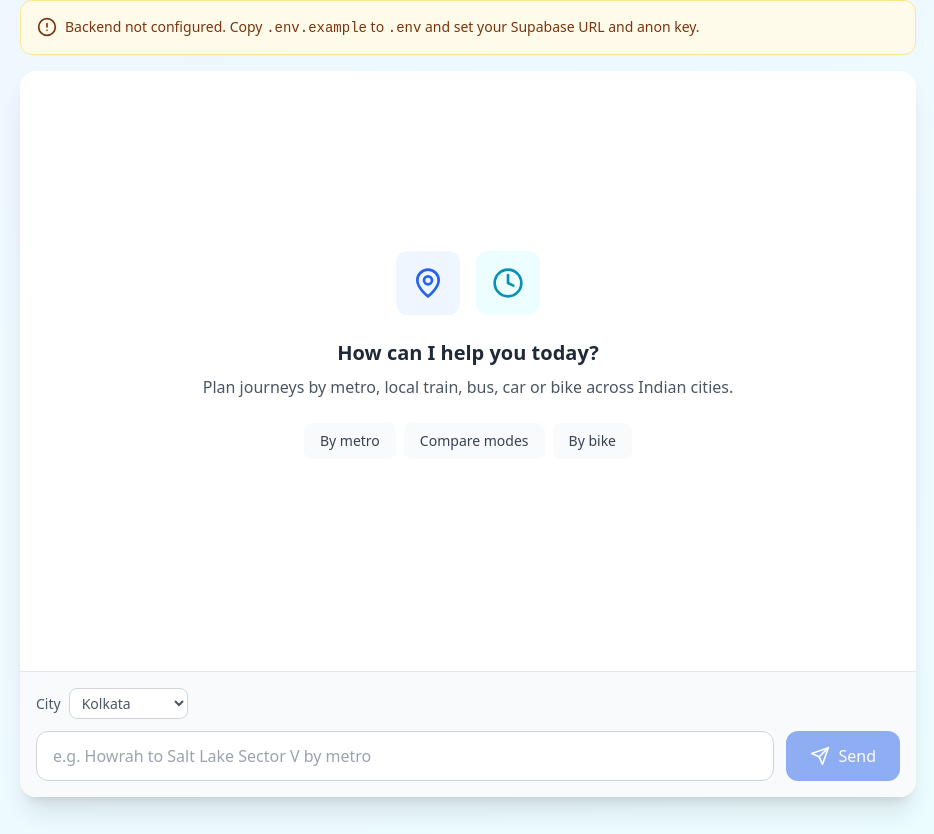
Test case: TransportAssistant › shows an error bubble when the backend is not configured, and can clear the chat
(page scrolled)
Step 1. Type "hello" into the field named "ask about getting around" → (405, 756), box [36, 731, 774, 781]
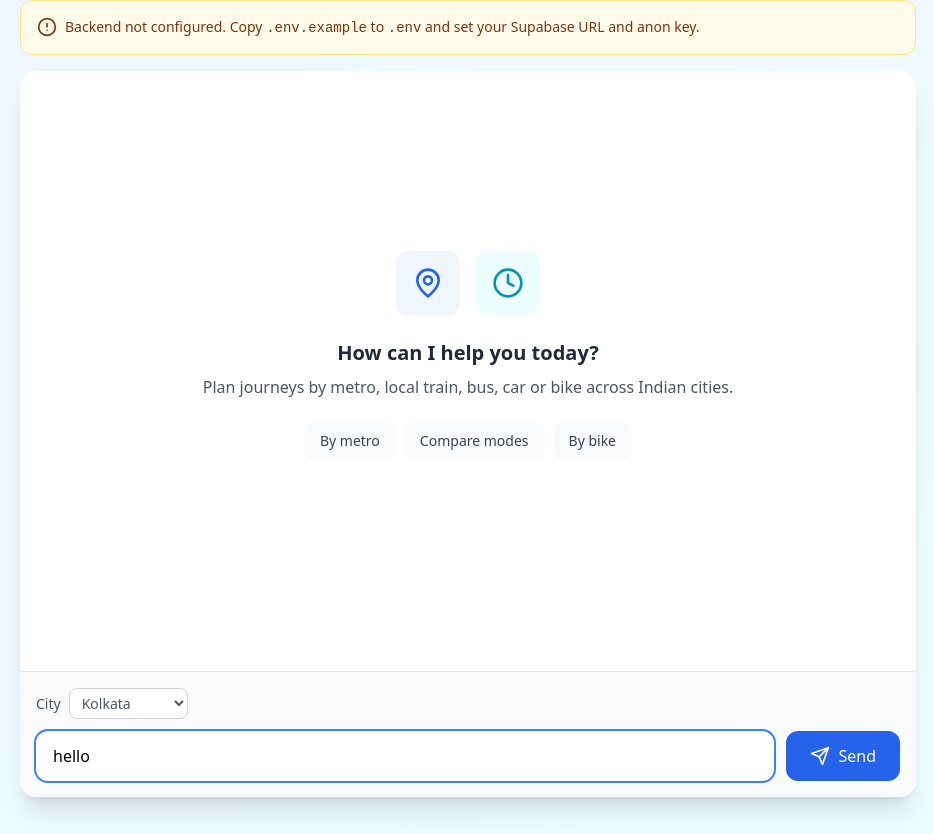
Step 2. Click the button "Send" → (843, 756), box [786, 731, 900, 781]
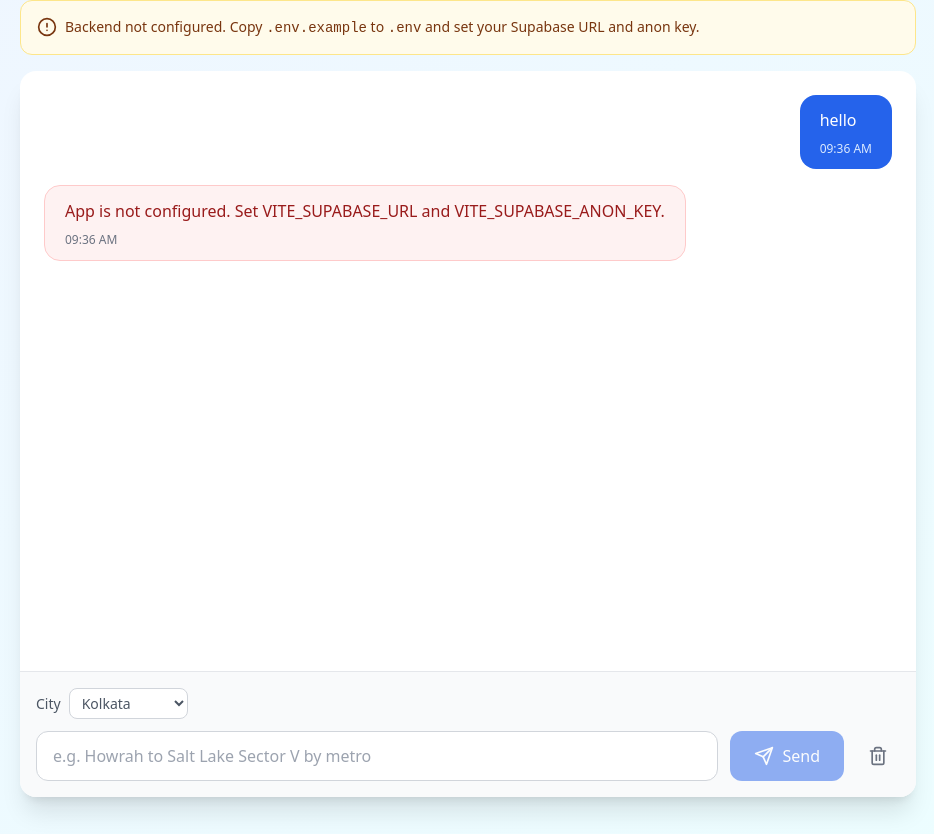
Result: the text "not configured" is shown at [65, 200, 665, 222]
Step 3. Click the button named "clear conversation" → (878, 756), box [856, 731, 900, 781]
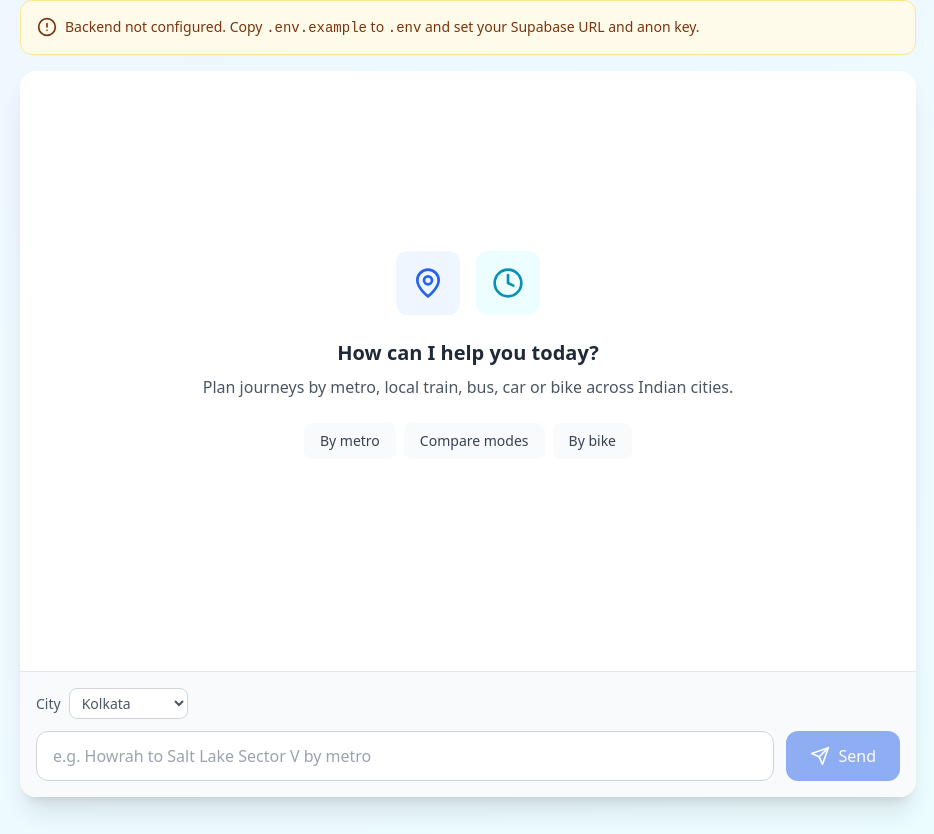
Result: the heading "How can I help you today?" is shown at [337, 339, 599, 366]
